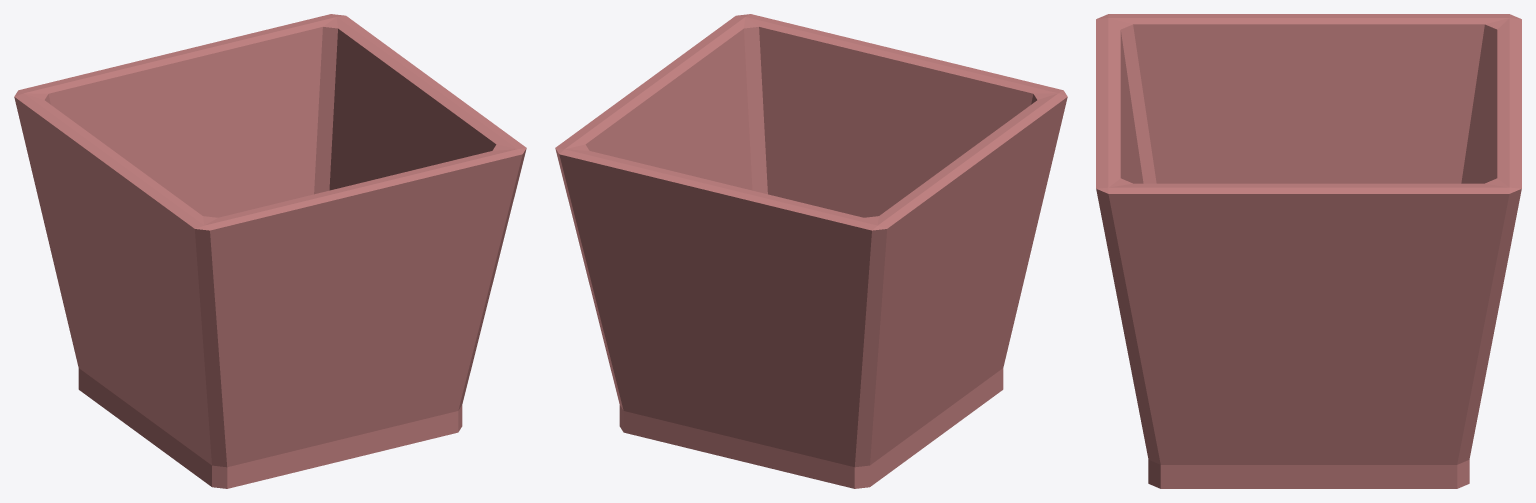
File: sales.fbx
3 views of the same model, side by side, from view 1: azimuth 30°, elevation 25°; view 2: azimuth 150°, elevation 25°; view 3: azimuth 270°, elevation 25° (orthographic). The views are drawn at different scales.
Parts seen in each view (by area): view 1: Cube; view 2: Cube; view 3: Cube.
Boxes of the visible parts, x1,y1,x2,y2 form: Cube: (14,14,526,488); Cube: (555,14,1067,488); Cube: (1096,14,1521,488).
Bounding box in the file's own units: 117 × 96.48 × 117.
